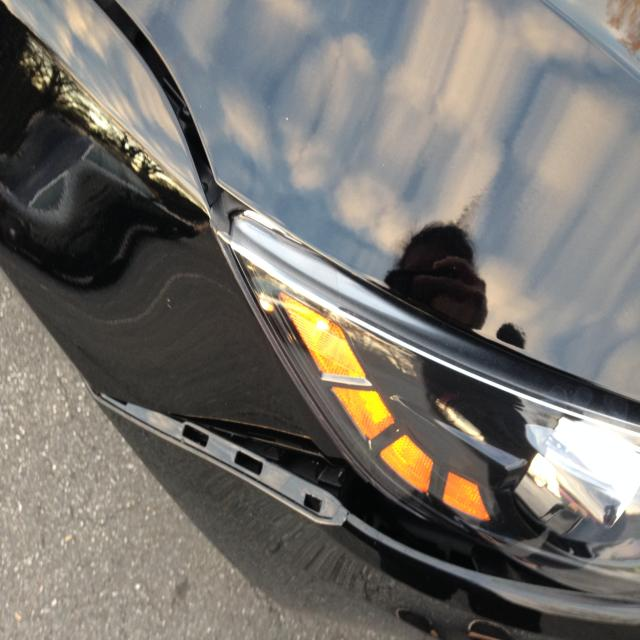misalignment: (99, 392, 601, 594)
